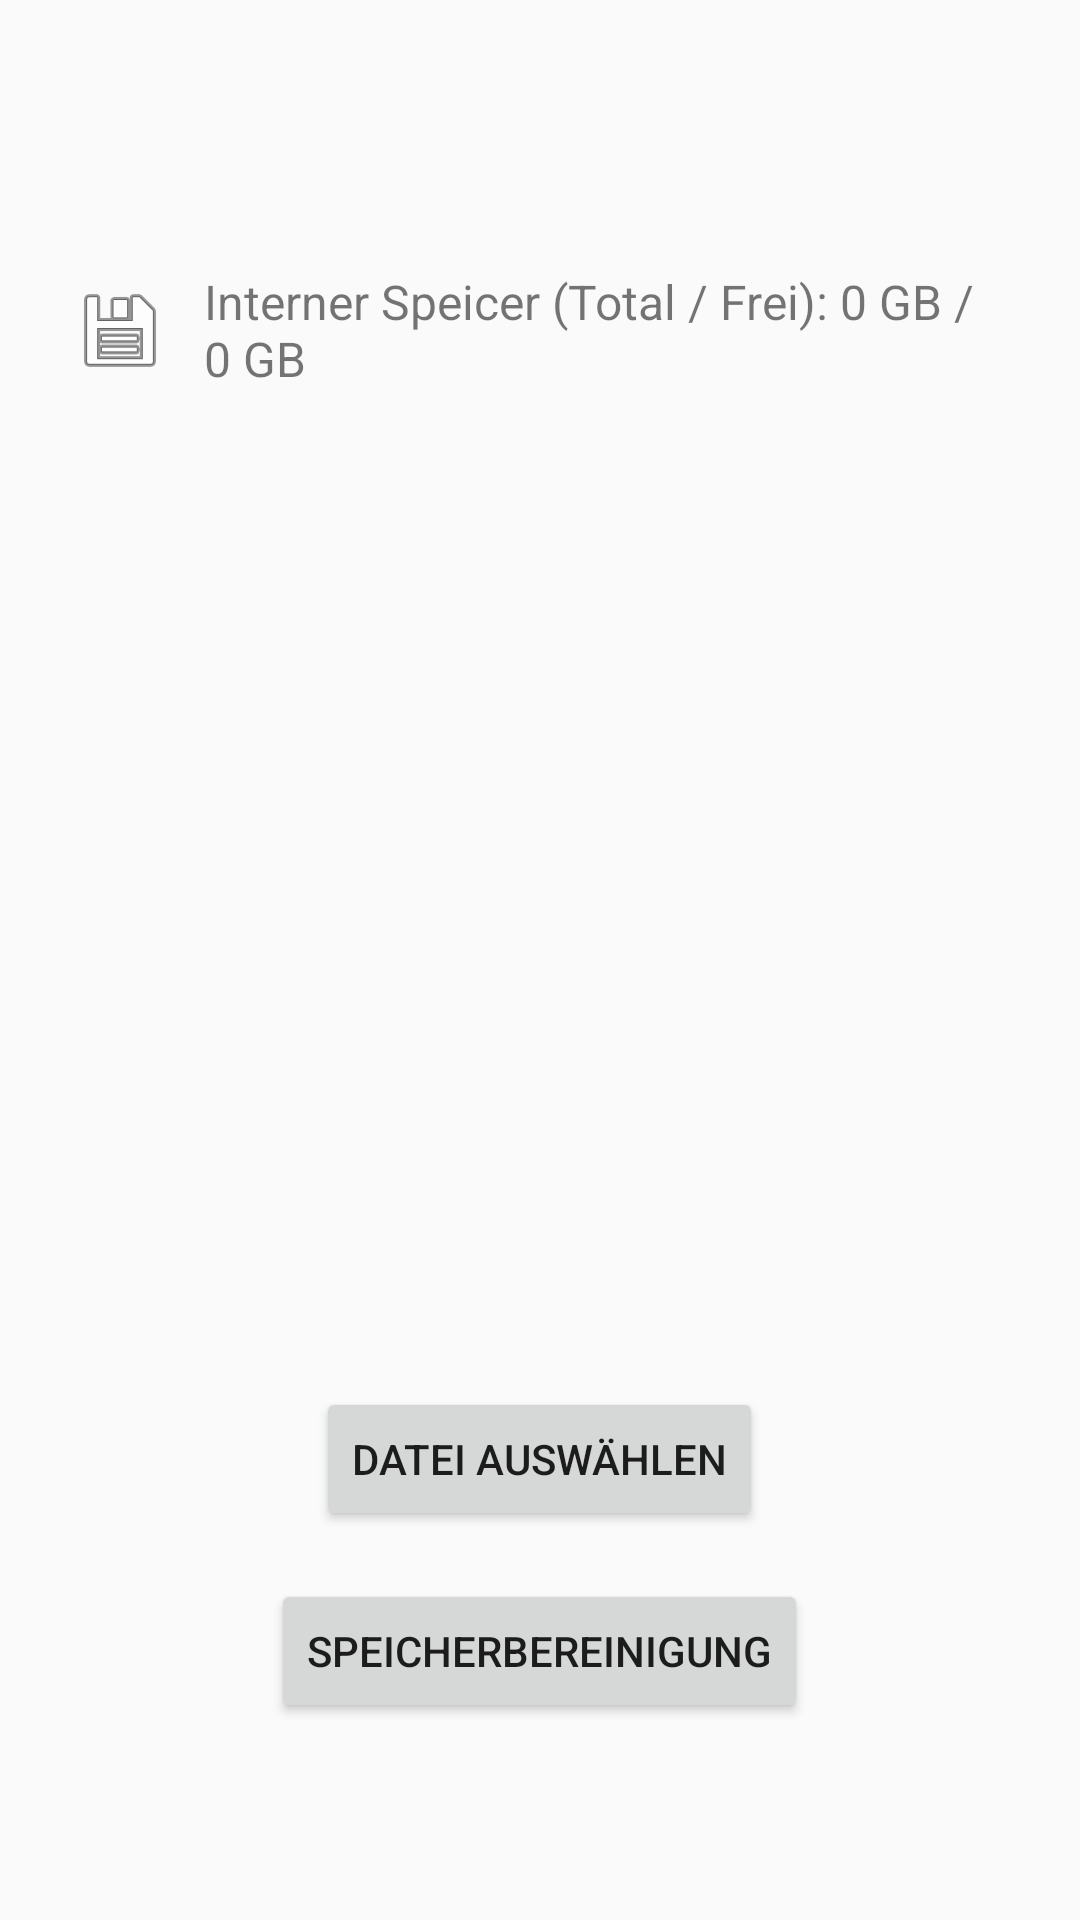

Named icons in this screenshot (1080px x 1920px) and their centers, point (x, y):
Internal Storage Icon: point (120, 330)
